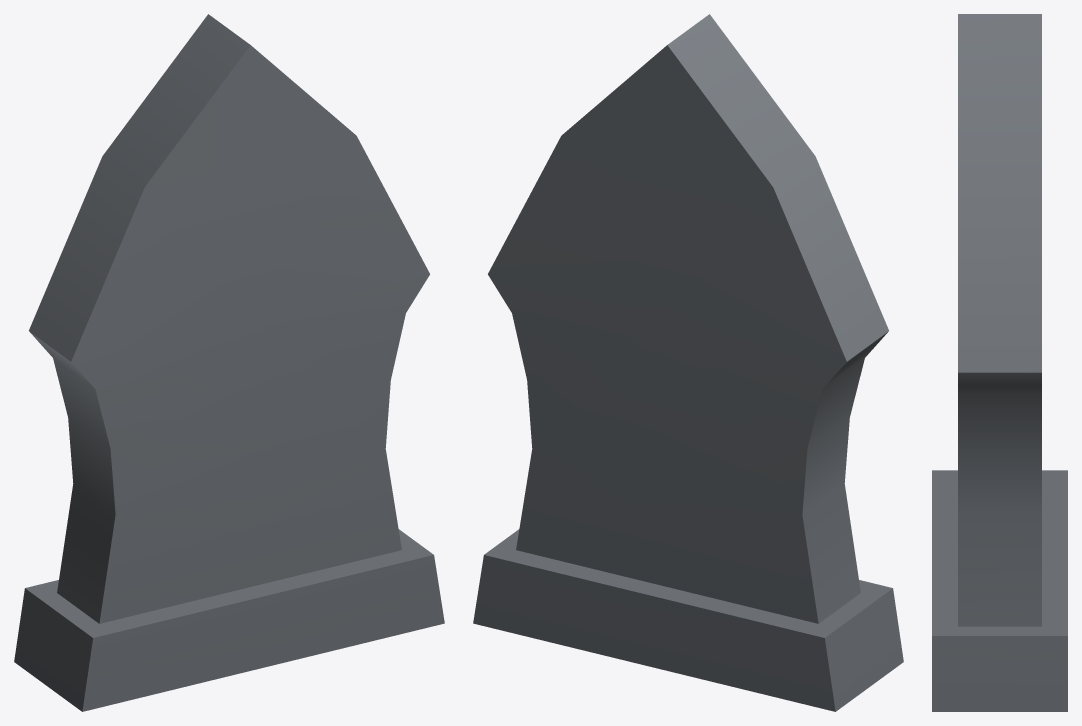
The model's file is grave_stone1.fbx.
3 renders of one model, left to right at view 1: azimuth 30°, elevation 25°; view 2: azimuth 150°, elevation 25°; view 3: azimuth 270°, elevation 25°, orthographic.
Parts seen in each view (by area): view 1: grave_stone1; view 2: grave_stone1; view 3: grave_stone1.
Part boxes in pixels (x1,y1,x2,y2): grave_stone1: [14, 14, 444, 711]; grave_stone1: [473, 14, 903, 711]; grave_stone1: [932, 14, 1067, 711].
Bounding box in the file's own units: 4.94 × 7.98 × 1.61.
